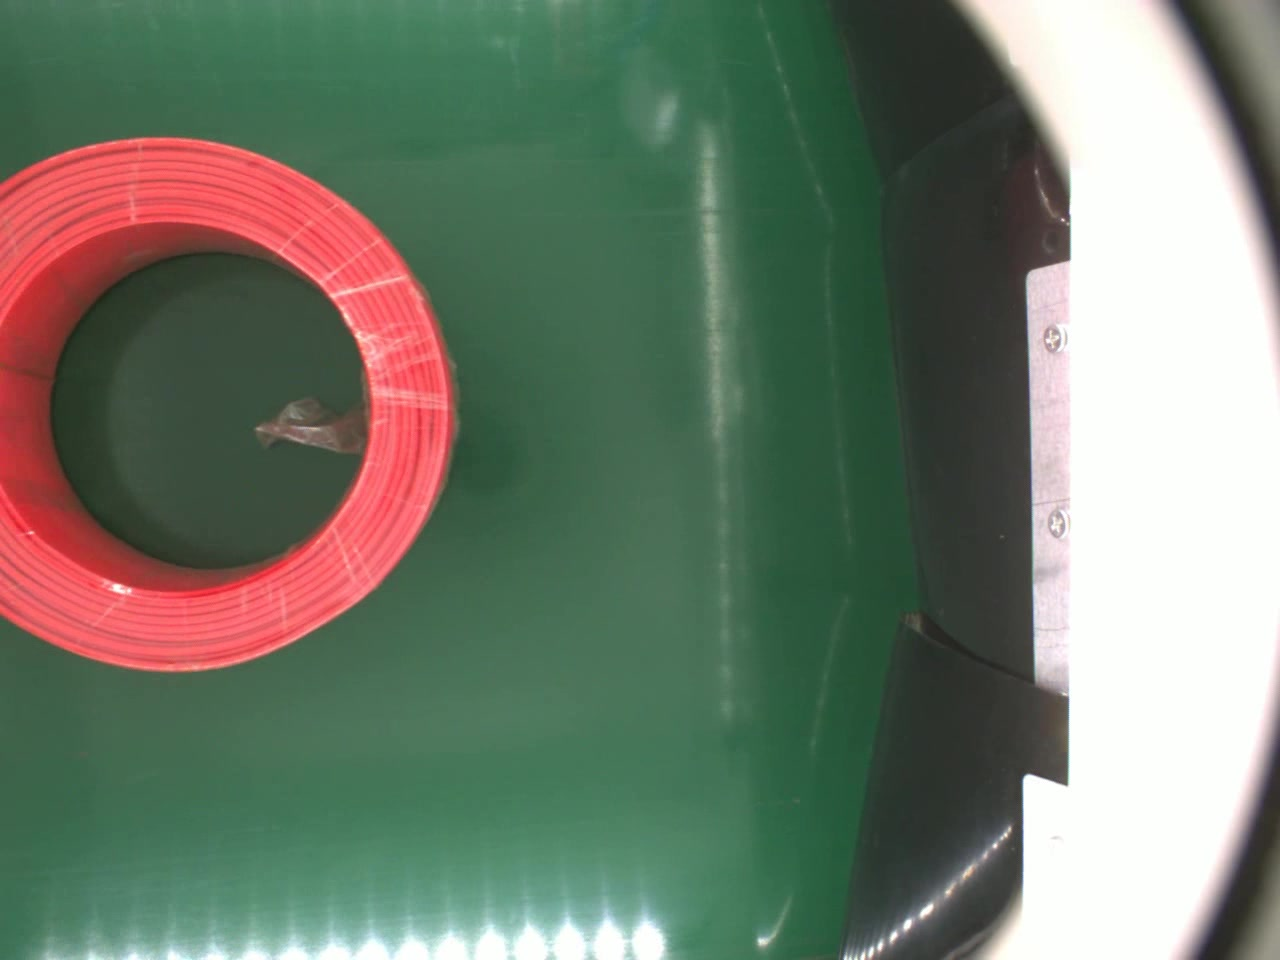red: (0, 136, 465, 683)
